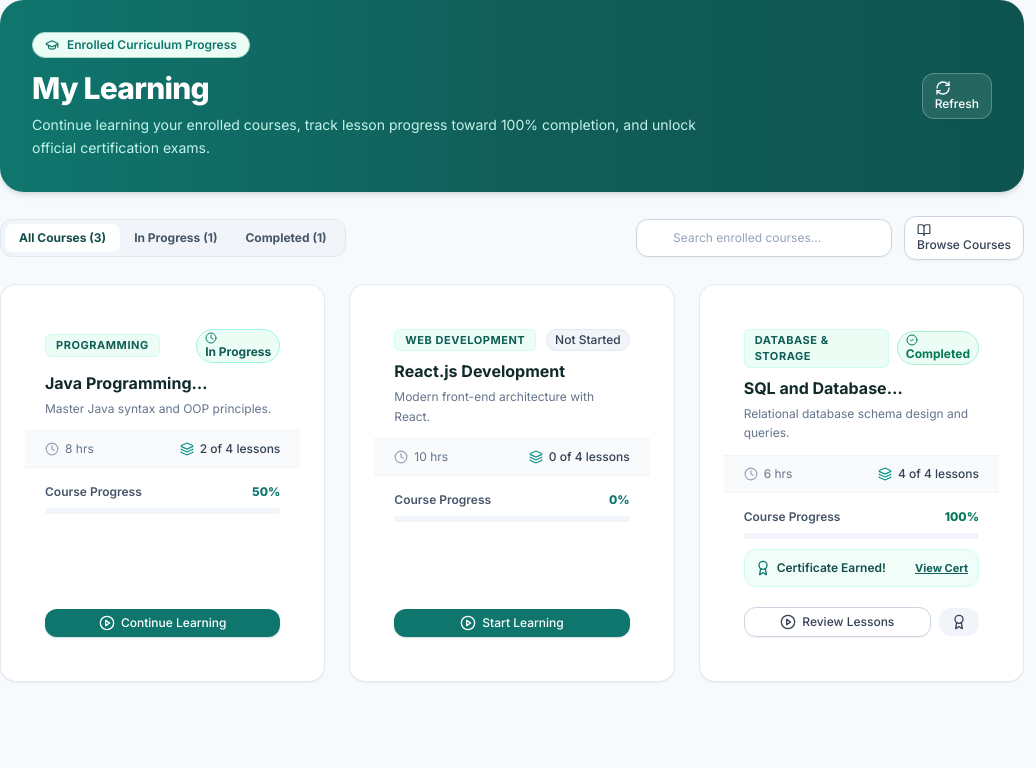
Test case: MyLearningPage › filters courses by search query
Expected: the heading "Java Programming Fundamentals" is shown, [45,372,192,416]
Type "react" into the field with placeholder "Search enrolled courses..." at (764, 238), box [636,218,892,256]
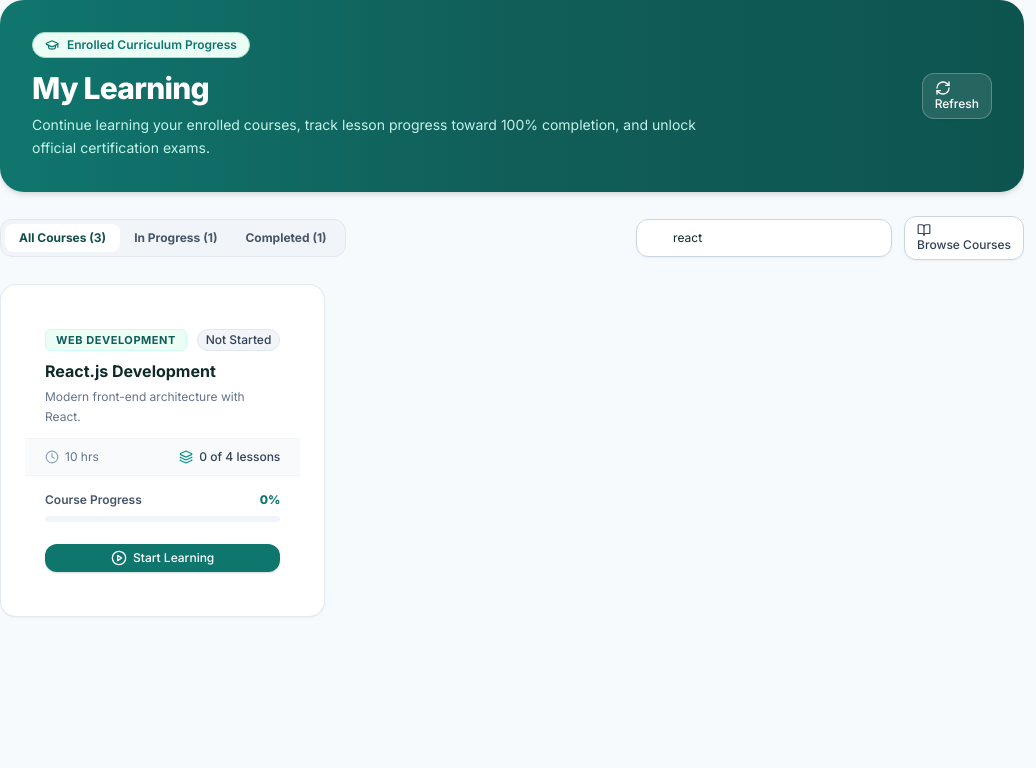
Expected: the heading "React.js Development" is shown, [45,361,216,381]
Expected: the heading "Java Programming Fundamentals" is gone
Expected: the heading "SQL and Database Management" is gone
